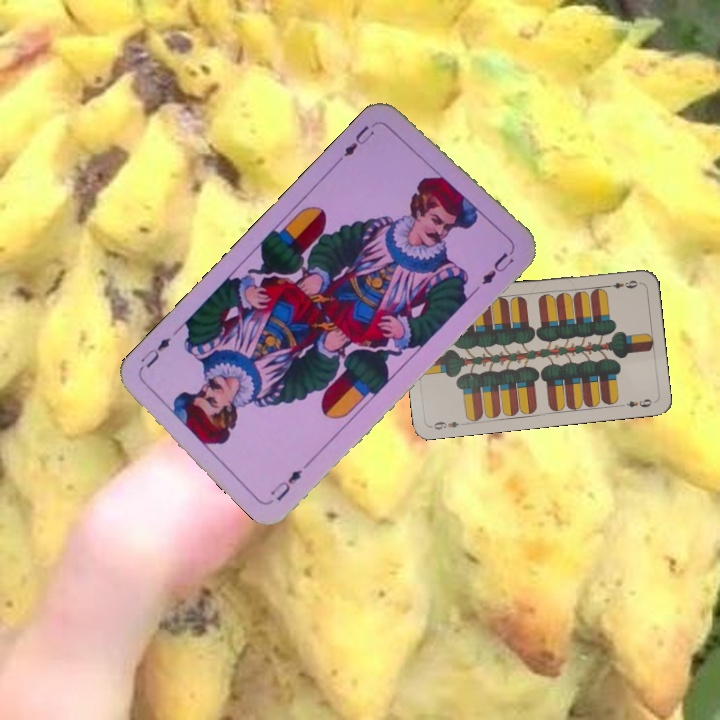E9: (427, 417, 468, 432), (602, 276, 640, 291)
EU: (340, 118, 381, 160), (266, 465, 305, 504)
